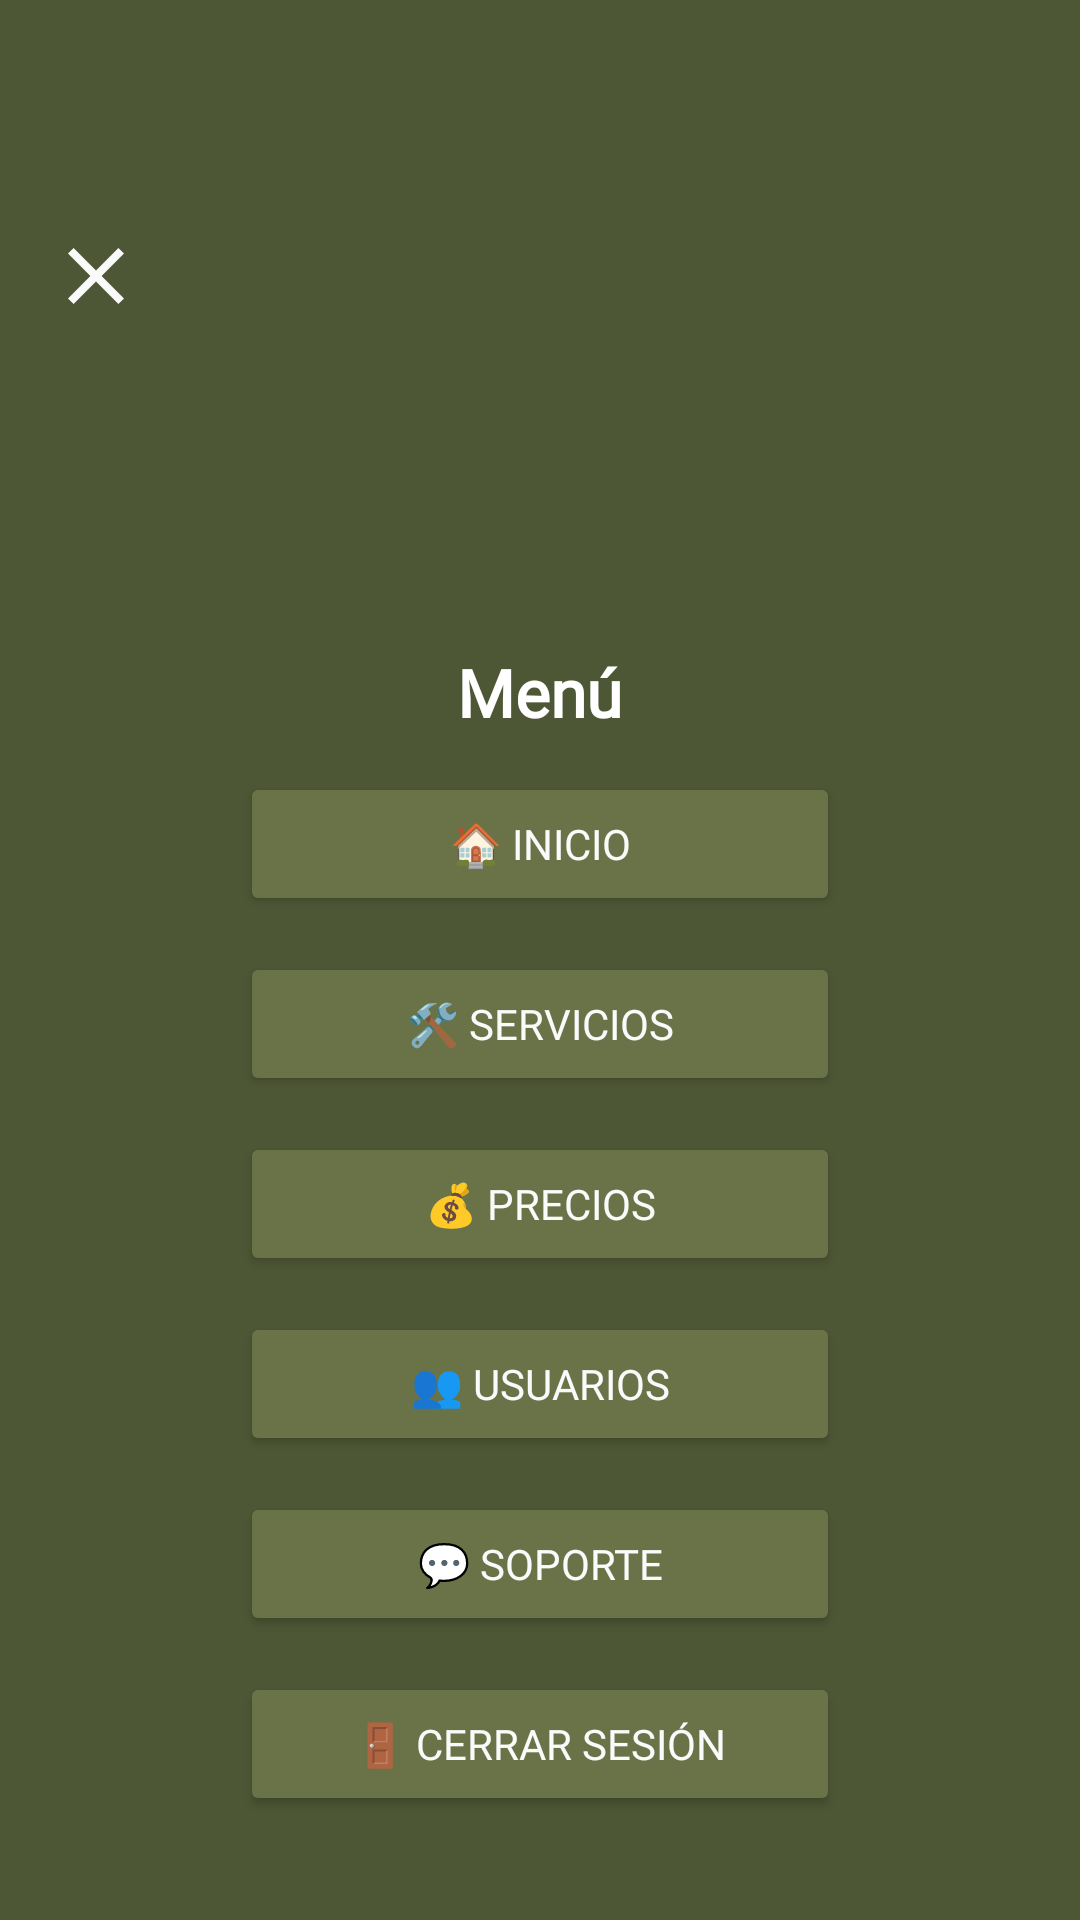

Screen size 1080w x 1920h. Icon name, then its center in pixels as (x,y):
Cerrar Sidebar: (96,276)
